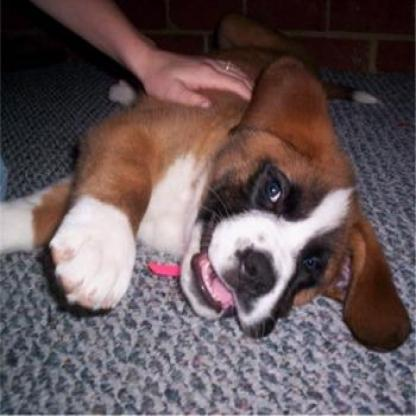Saint_Bernard: (0, 9, 414, 354)
